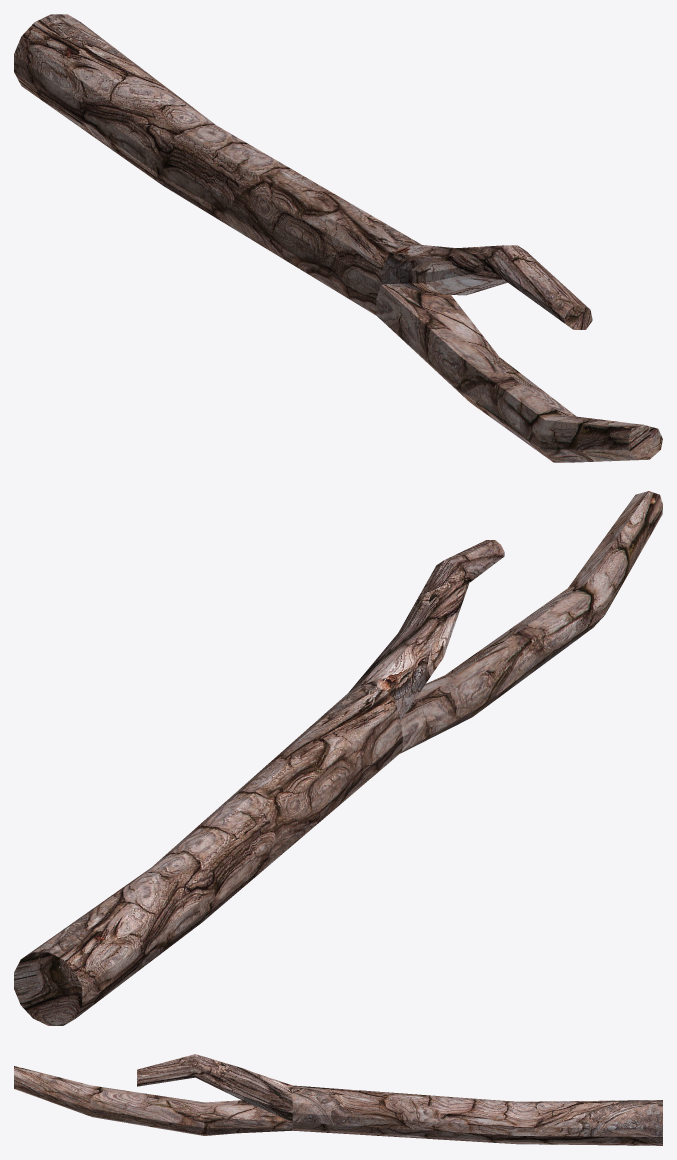
File: stick.obj
The picture shows the model from 3 angles, top to bottom: view 1: azimuth 30°, elevation 25°; view 2: azimuth 150°, elevation 25°; view 3: azimuth 270°, elevation 25°; orthographic projection. The views are drawn at different scales.
Visible parts, largest first — view 1: Cylinder; view 2: Cylinder; view 3: Cylinder.
Part boxes in pixels (x1,y1,x2,y2): Cylinder: (14, 14, 662, 462); Cylinder: (14, 491, 662, 1025); Cylinder: (14, 1054, 662, 1145).
Bounding box in the file's own units: 0.3317 × 0.584 × 3.77.
